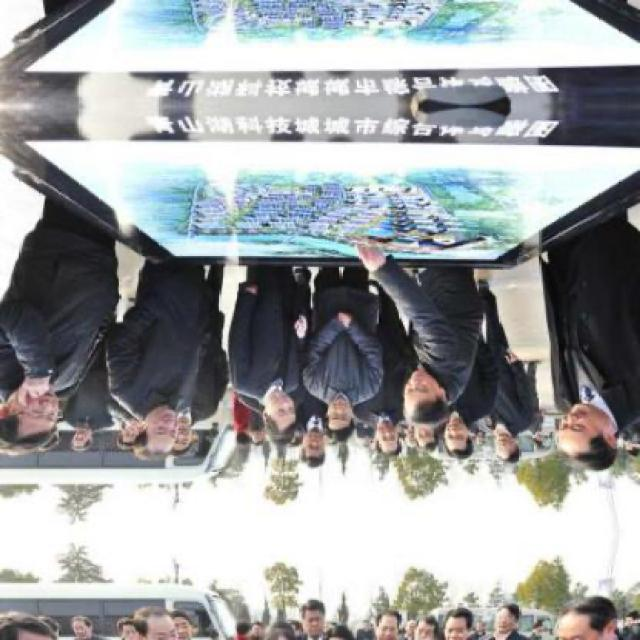sin casco: (111, 394, 212, 468), (544, 410, 632, 481), (5, 371, 72, 460), (399, 379, 470, 433), (319, 390, 380, 452), (262, 389, 308, 441), (440, 420, 486, 468)
